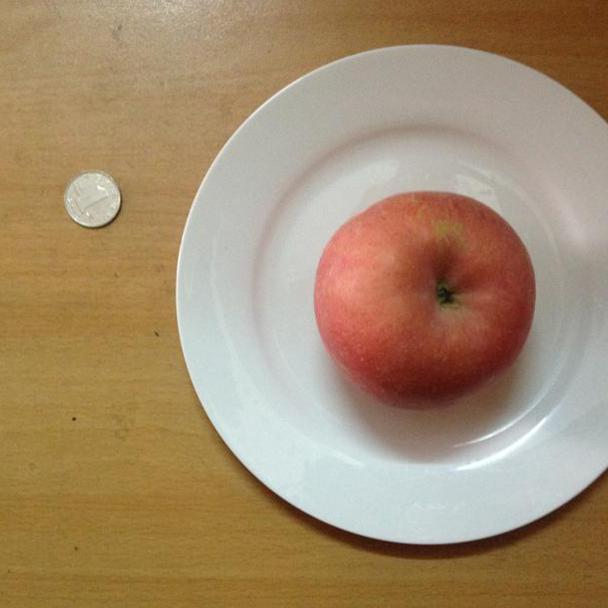apple: (308, 190, 547, 413)
